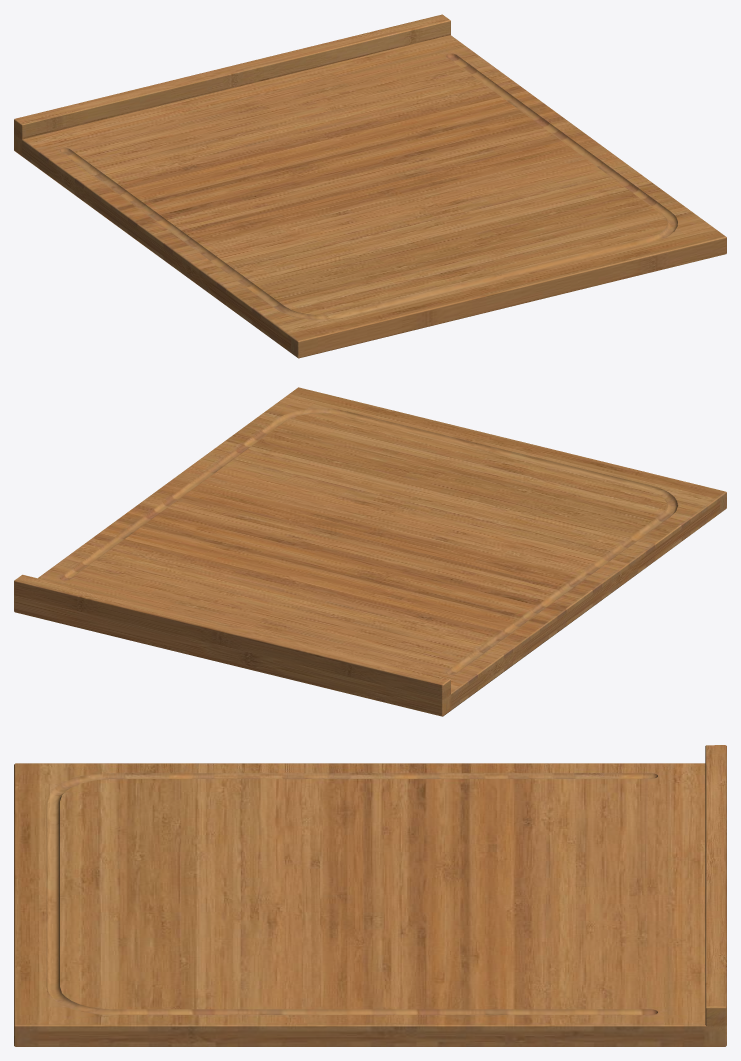
The model's file is lamplig_deska_do_krojenia_00309829.glb.
3 renders of one model, top to bottom at view 1: azimuth 30°, elevation 25°; view 2: azimuth 150°, elevation 25°; view 3: azimuth 270°, elevation 25°, orthographic. The views are drawn at different scales.
Visible parts, largest first — view 1: lamplig_deska_do_krojenia_00309829; view 2: lamplig_deska_do_krojenia_00309829; view 3: lamplig_deska_do_krojenia_00309829.
Boxes of the visible parts, x1,y1,x2,y2 form: lamplig_deska_do_krojenia_00309829: (14,14,726,358); lamplig_deska_do_krojenia_00309829: (14,387,726,716); lamplig_deska_do_krojenia_00309829: (14,745,726,1046).
Bounding box in the file's own units: 0.46 × 0.033 × 0.528.
Materials: 1 (1 with a texture image).
